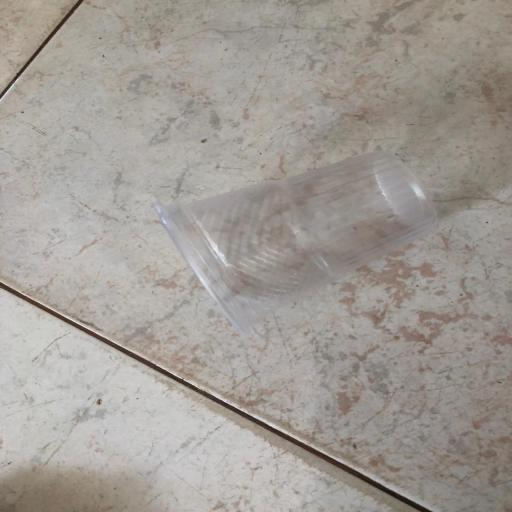waste: (131, 129, 470, 345)
